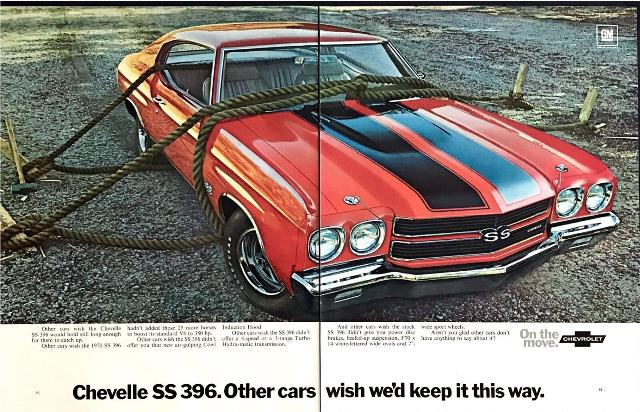chevelle-1972: (117, 22, 619, 318)
